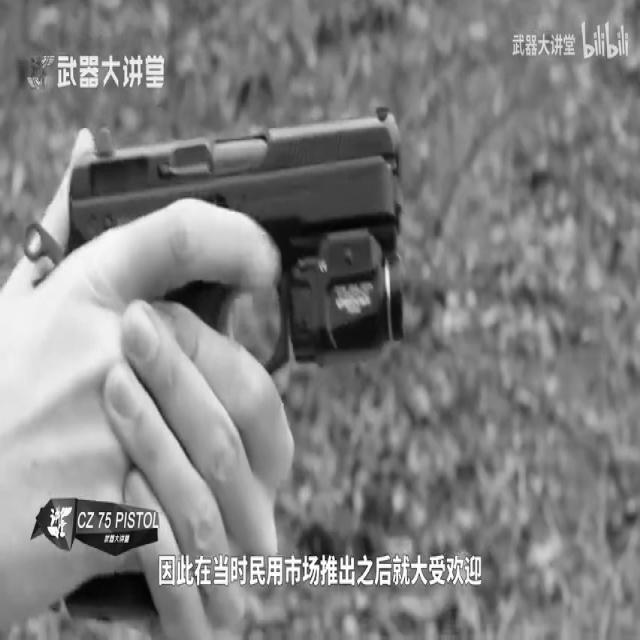Hand-Gun: (57, 107, 408, 432)
